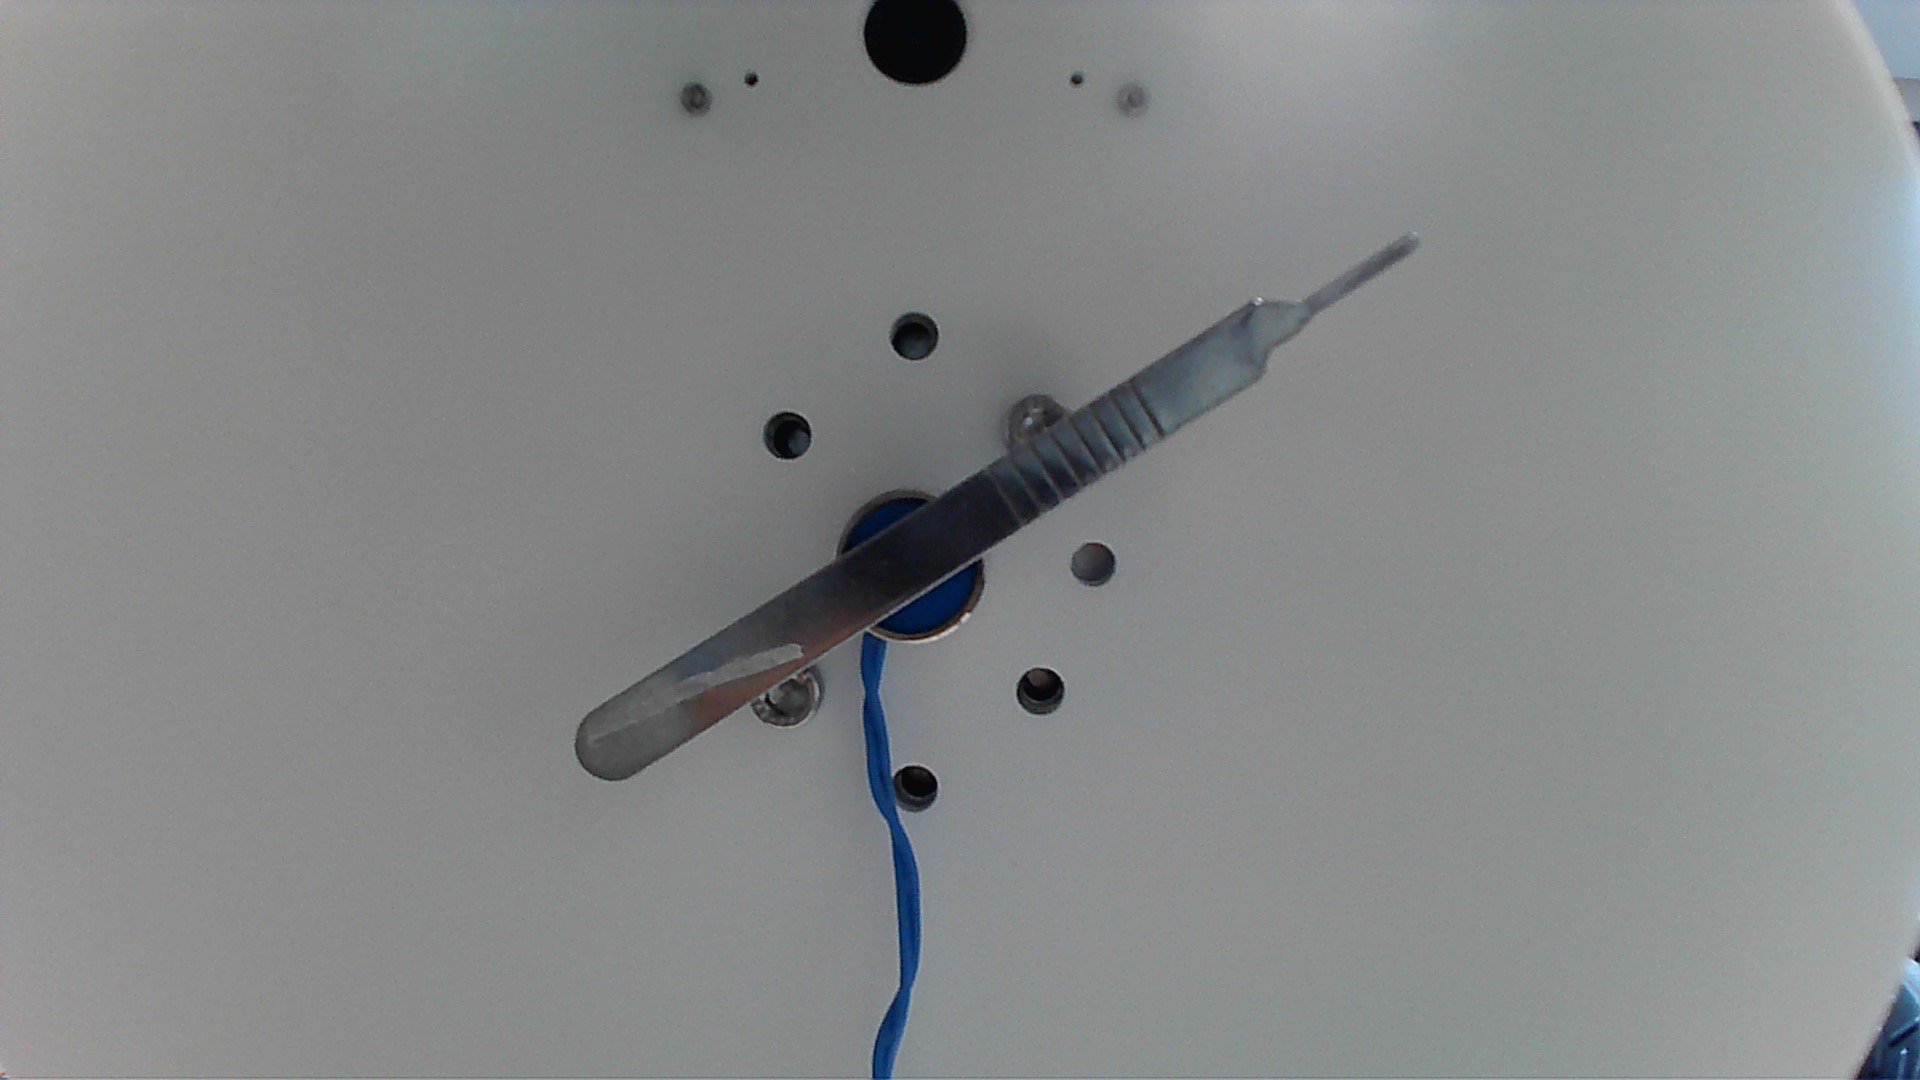Scratches: (567, 633, 814, 748)
